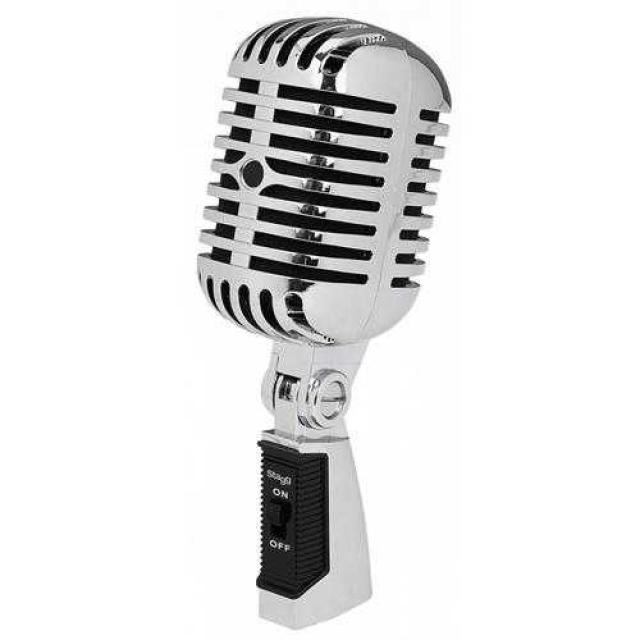microphone: (201, 21, 446, 630)
